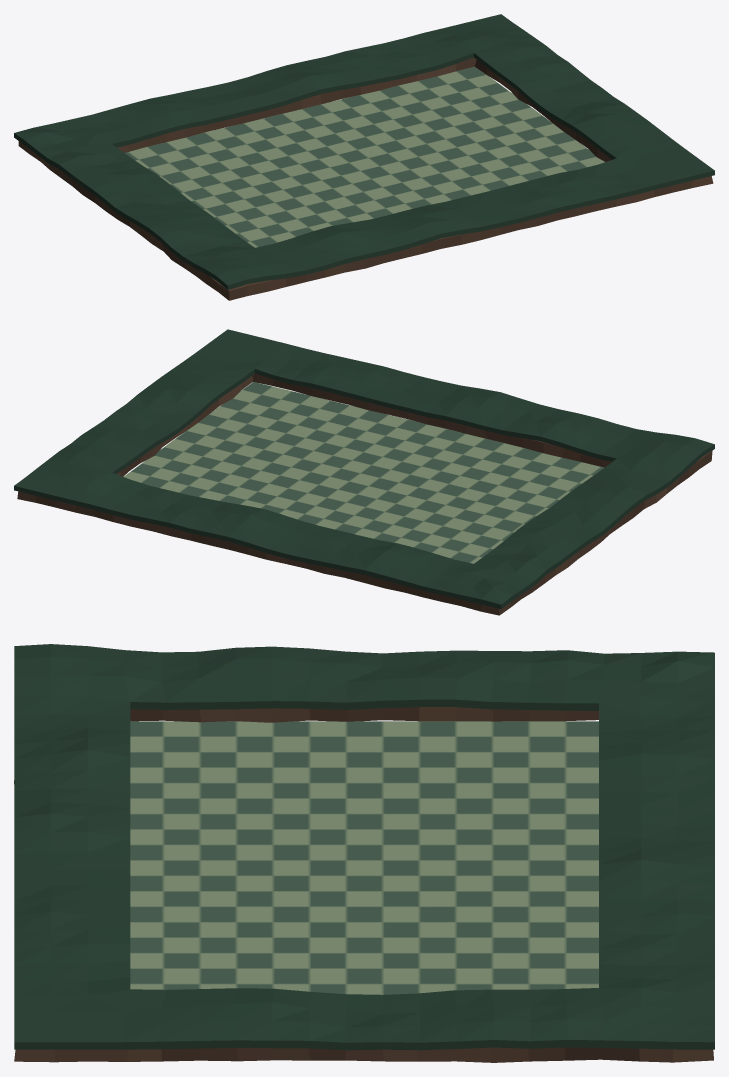
File: Board.fbx
The picture shows the model from 3 angles, top to bottom: view 1: azimuth 30°, elevation 25°; view 2: azimuth 150°, elevation 25°; view 3: azimuth 270°, elevation 25°; orthographic projection. The views are drawn at different scales.
Parts seen in each view (by area): view 1: Plane.001, Plane.002, Plane; view 2: Plane.001, Plane.002, Plane; view 3: Plane.001, Plane.002, Plane.
Boxes of the visible parts, x1,y1,x2,y2 form: Plane.001: (14,14,714,289); Plane.002: (125,67,604,247); Plane: (18,57,713,300); Plane.001: (14,329,714,608); Plane.002: (124,382,603,563); Plane: (17,373,712,615); Plane.001: (14,644,714,1050); Plane.002: (130,721,598,994); Plane: (14,707,713,1062).
Bounding box in the file's own units: 2522 × 99.71 × 1916.
2 materials, 2 textured.
